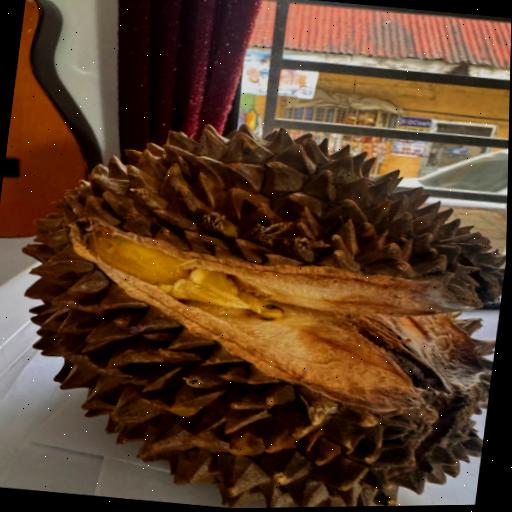rot: (0, 60, 510, 512)
